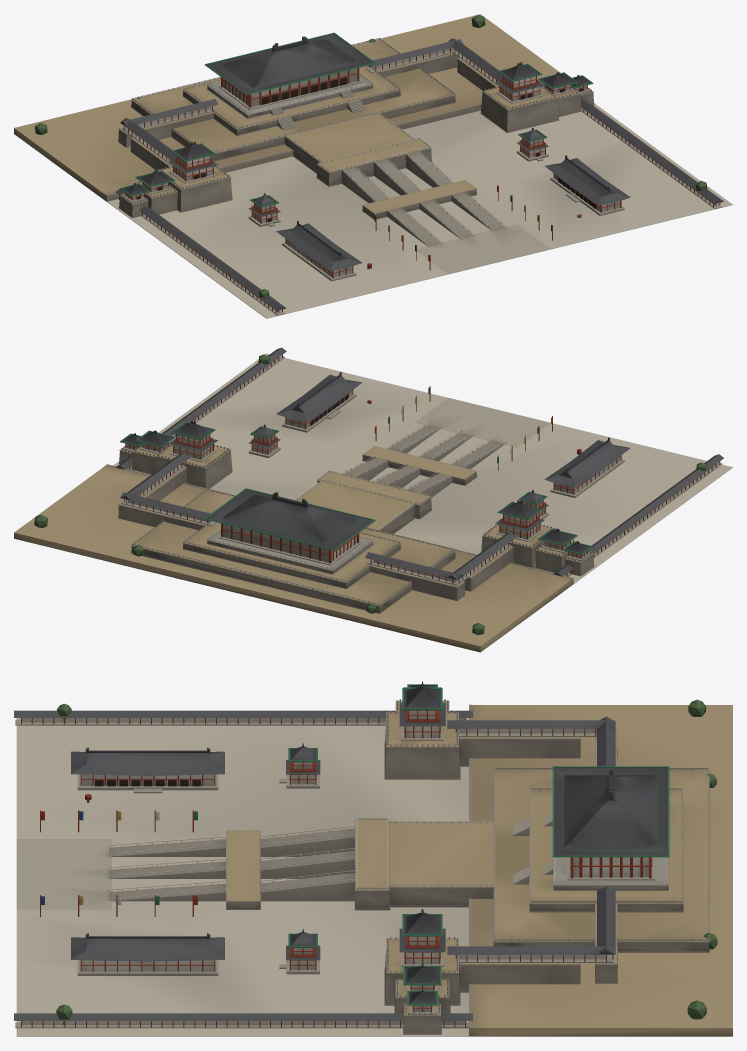
Rendered from hanyuan-hall.glb.
3 renders of one model, top to bottom at view 1: azimuth 30°, elevation 25°; view 2: azimuth 150°, elevation 25°; view 3: azimuth 270°, elevation 25°, orthographic. The views are drawn at different scales.
Visible parts, largest first — view 1: p0_terraces, p1_halls, p2_trees; view 2: p0_terraces, p1_halls, p2_trees; view 3: p0_terraces, p1_halls, p2_trees.
Boxes of the visible parts, x1,y1,x2,y2 form: p0_terraces: (14,14,732,318); p1_halls: (115,38,723,315); p2_trees: (34,14,707,301); p0_terraces: (14,353,732,652); p1_halls: (115,347,723,585); p2_trees: (34,354,706,634); p0_terraces: (16,699,732,1036); p1_halls: (14,710,655,1028); p2_trees: (40,681,717,1024).
Size of the model in its own units: 320 by 44.71 by 301.
